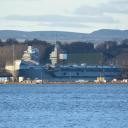Portanaves: (7, 30, 125, 84)
